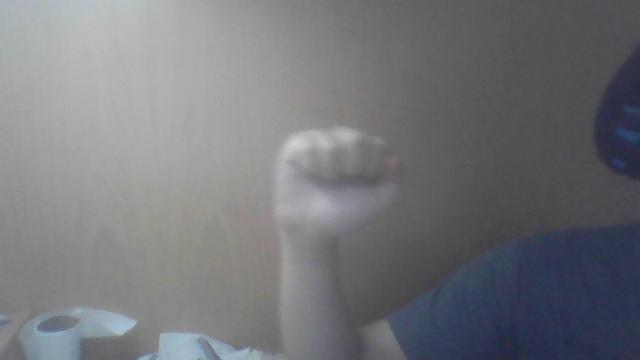forward: (271, 125, 404, 359)
